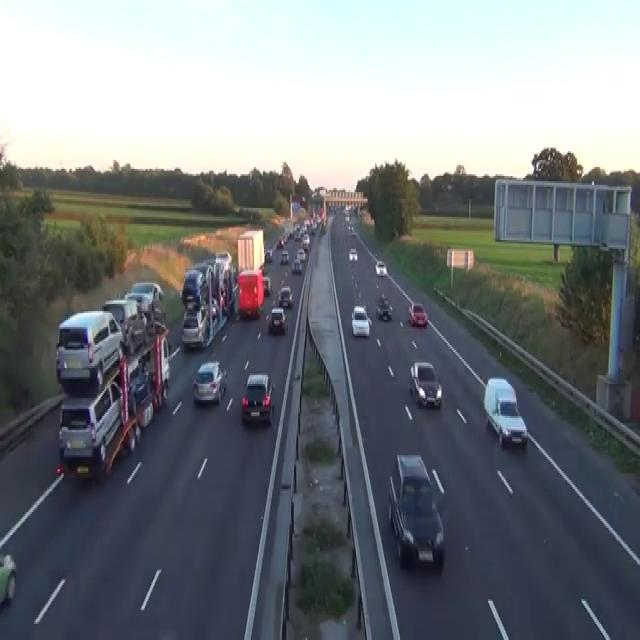Car: (387, 453, 444, 567), (58, 379, 123, 462), (483, 377, 528, 448), (102, 297, 148, 354), (241, 371, 275, 425), (192, 359, 227, 404), (409, 361, 442, 407), (131, 281, 165, 325), (129, 369, 155, 426), (122, 292, 155, 334), (181, 304, 209, 348), (181, 268, 205, 306), (0, 553, 16, 606), (351, 304, 371, 338), (131, 281, 164, 300), (266, 306, 287, 334), (408, 302, 427, 327), (375, 293, 392, 320), (274, 284, 293, 308), (215, 249, 232, 270), (203, 295, 218, 317), (262, 276, 272, 295), (375, 260, 386, 276), (291, 258, 302, 274), (272, 290, 282, 306), (280, 249, 289, 265), (348, 247, 357, 261), (296, 247, 305, 261), (264, 249, 272, 263), (302, 236, 310, 249), (319, 222, 326, 235), (276, 238, 284, 249), (233, 204, 240, 213), (311, 190, 318, 198), (344, 214, 350, 222), (348, 224, 353, 231), (300, 195, 305, 202)
Truck: (58, 324, 170, 480), (180, 249, 235, 348), (55, 310, 122, 388), (236, 228, 265, 318)
